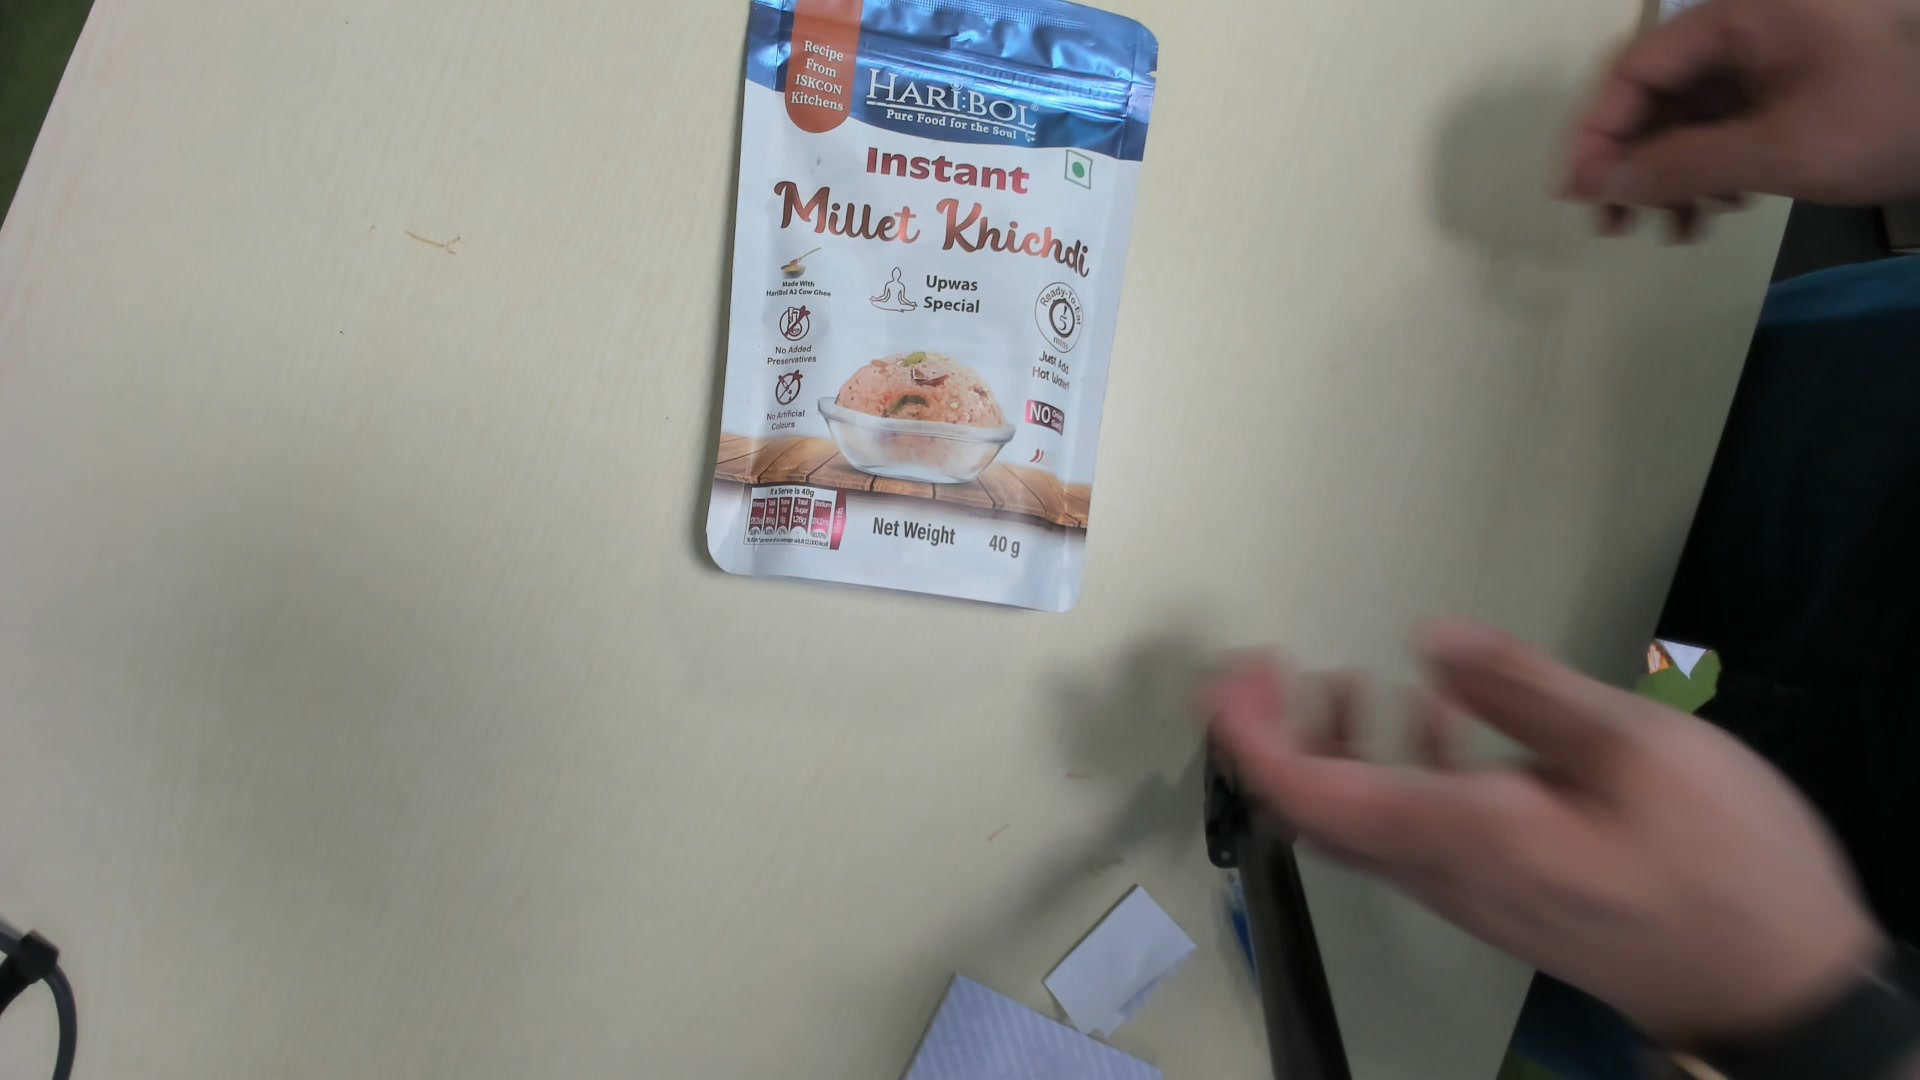InstantMeals_0-99g_NonHalal_NonHealthy: (694, 5, 1160, 612)
